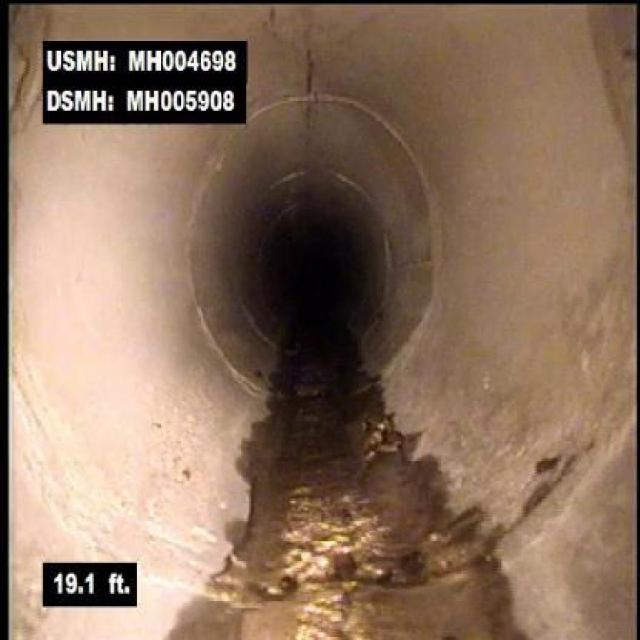Crack: (328, 498, 364, 632), (299, 5, 323, 94)
